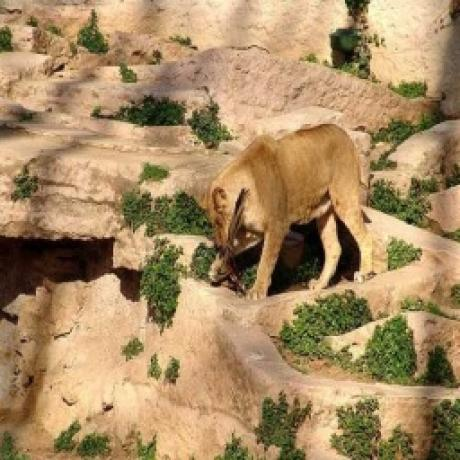Lion: (202, 120, 378, 302)
